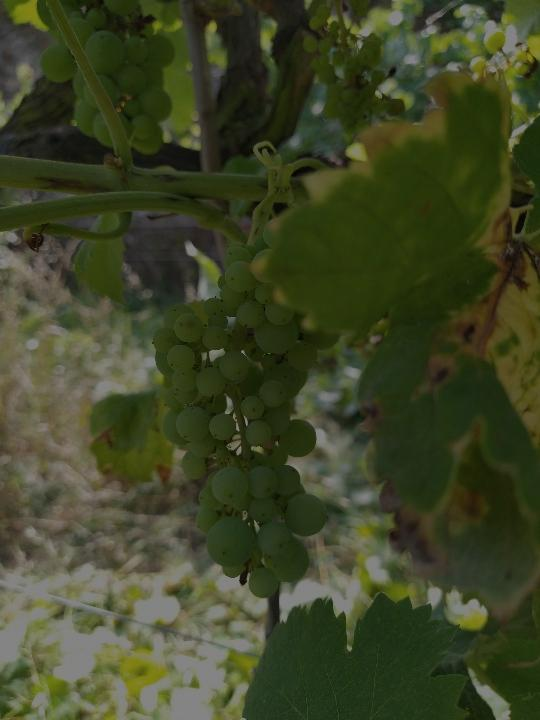grape: (146, 231, 331, 603)
